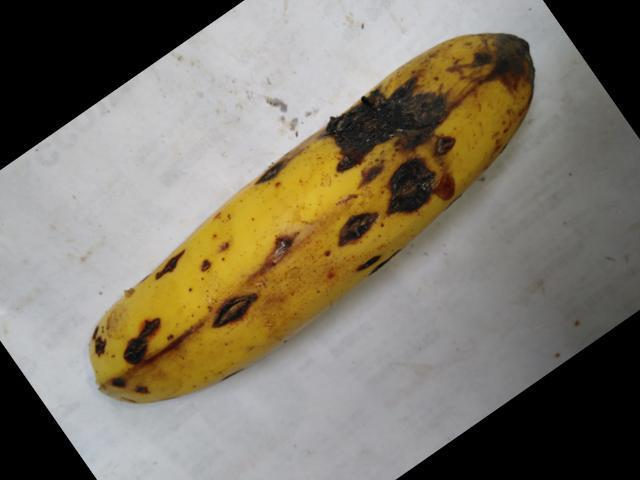rotten: (289, 76, 466, 255), (464, 17, 547, 110), (102, 306, 167, 386), (209, 272, 263, 349), (247, 140, 302, 191), (255, 229, 311, 278), (141, 235, 192, 285)
